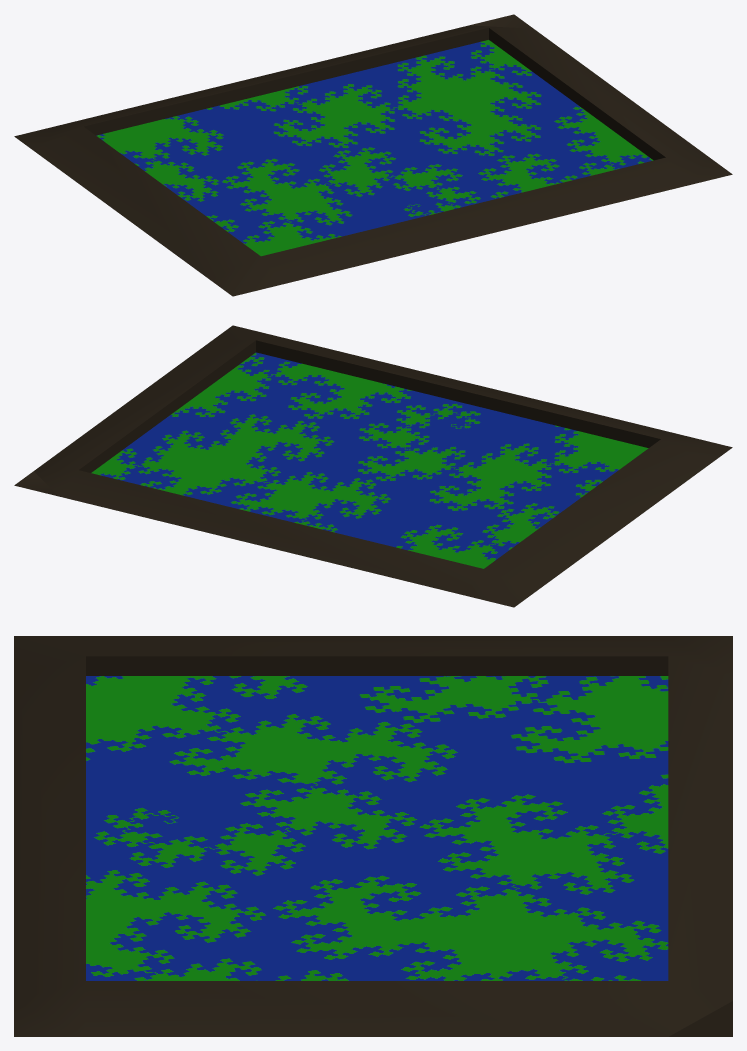
File: Painting18.fbx
3 renders of one model, top to bottom at view 1: azimuth 30°, elevation 25°; view 2: azimuth 150°, elevation 25°; view 3: azimuth 270°, elevation 25°, orthographic. The views are drawn at different scales.
Parts seen in each view (by area): view 1: pPlane1, pCube1; view 2: pPlane1, pCube1; view 3: pPlane1, pCube1.
Part boxes in pixels (x1,y1,x2,y2): pPlane1: (96, 40, 653, 256); pCube1: (14, 14, 732, 296); pPlane1: (91, 352, 648, 568); pCube1: (14, 325, 732, 607); pPlane1: (86, 676, 668, 980); pCube1: (14, 636, 732, 1036).
Size of the model in its own units: 9.39 by 0.4312 by 7.11.
2 materials, 1 textured.
